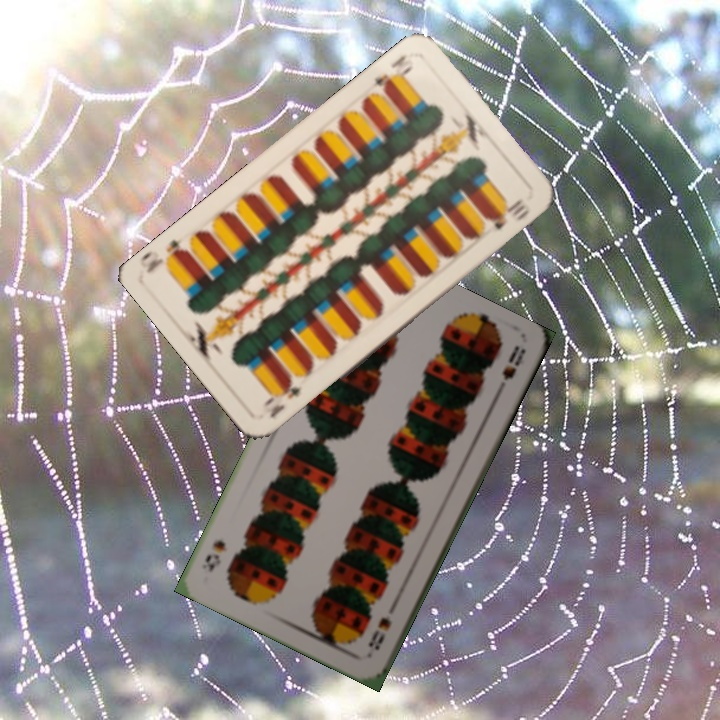E10: (369, 51, 417, 96), (260, 376, 305, 421)
S8: (364, 612, 395, 653)
